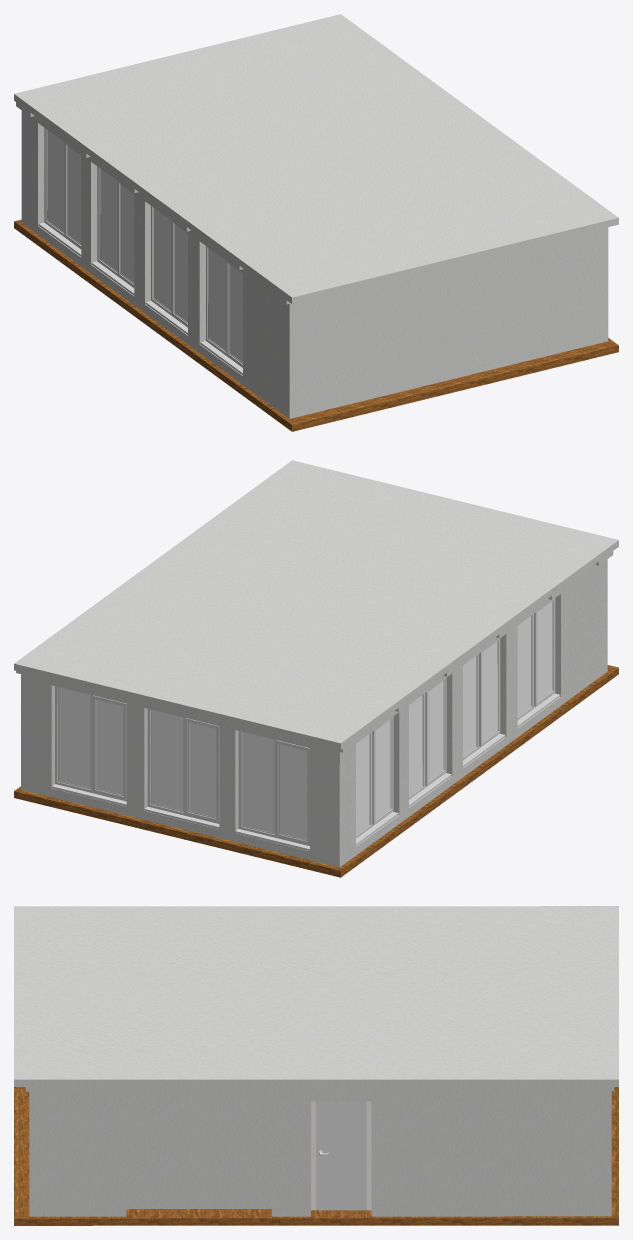
File: FloorPlan230_physics.fbx
3 views of the same model, one above another, from view 1: azimuth 30°, elevation 25°; view 2: azimuth 150°, elevation 25°; view 3: azimuth 270°, elevation 25° (orthographic). The views are drawn at different scales.
Parts seen in each view (by area): view 1: FP230:Cube.1227, FP230:Room.021, FP230:Floor, FP230:polySurface15, FP230:polySurface16, FP230:polySurface18, FP230:polySurface17, FP230:Window.021, FP230:Window.022, FP230:Window.024, FP230:Window.025; view 2: FP230:Cube.1227, FP230:Room.021, FP230:Floor, FP230:polySurface13, FP230:polySurface14, FP230:polySurface2, FP230:polySurface15, FP230:polySurface16, FP230:polySurface18, FP230:polySurface17, FP230:polySurface12, FP230:polySurface5 (+5 smaller); view 3: FP230:Cube.1227, FP230:Room.021, FP230:Floor, FP230:Door.018, FP230:DoorFrame.015.
Boxes of the visible parts, bbox=[...] form: FP230:Cube.1227: bbox=[14, 14, 618, 304]; FP230:Room.021: bbox=[21, 110, 608, 418]; FP230:Floor: bbox=[14, 219, 618, 431]; FP230:polySurface15: bbox=[47, 130, 81, 243]; FP230:polySurface16: bbox=[100, 169, 134, 282]; FP230:polySurface18: bbox=[208, 248, 242, 362]; FP230:polySurface17: bbox=[154, 208, 187, 322]; FP230:Window.021: bbox=[38, 128, 81, 256]; FP230:Window.022: bbox=[91, 166, 134, 295]; FP230:Window.024: bbox=[200, 246, 242, 374]; FP230:Window.025: bbox=[145, 206, 187, 334]; FP230:Cube.1227: bbox=[14, 460, 618, 752]; FP230:Room.021: bbox=[21, 559, 607, 867]; FP230:Floor: bbox=[14, 665, 618, 877]; FP230:polySurface13: bbox=[151, 710, 215, 817]; FP230:polySurface14: bbox=[242, 732, 306, 839]; FP230:polySurface2: bbox=[59, 687, 123, 794]; FP230:polySurface15: bbox=[356, 720, 390, 833]; FP230:polySurface16: bbox=[409, 681, 443, 795]; FP230:polySurface18: bbox=[517, 601, 552, 715]; FP230:polySurface17: bbox=[463, 642, 497, 755]; FP230:polySurface12: bbox=[144, 709, 219, 828]; FP230:polySurface5: bbox=[52, 686, 126, 806]; FP230:Cube.1227: bbox=[14, 906, 618, 1091]; FP230:Room.021: bbox=[29, 1087, 611, 1216]; FP230:Floor: bbox=[14, 1087, 618, 1225]; FP230:Door.018: bbox=[316, 1101, 366, 1210]; FP230:DoorFrame.015: bbox=[311, 1101, 371, 1210].
Bounding box in the file's own units: 676 × 266 × 997.
